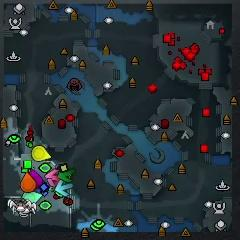p1: (34, 184, 46, 195)
p2: (22, 192, 42, 204)
p3: (30, 169, 43, 186)
p4: (31, 145, 51, 161)
p5: (20, 172, 35, 192)
x1: (45, 169, 59, 185)
x3: (55, 180, 74, 197)
x4: (58, 169, 75, 182)
